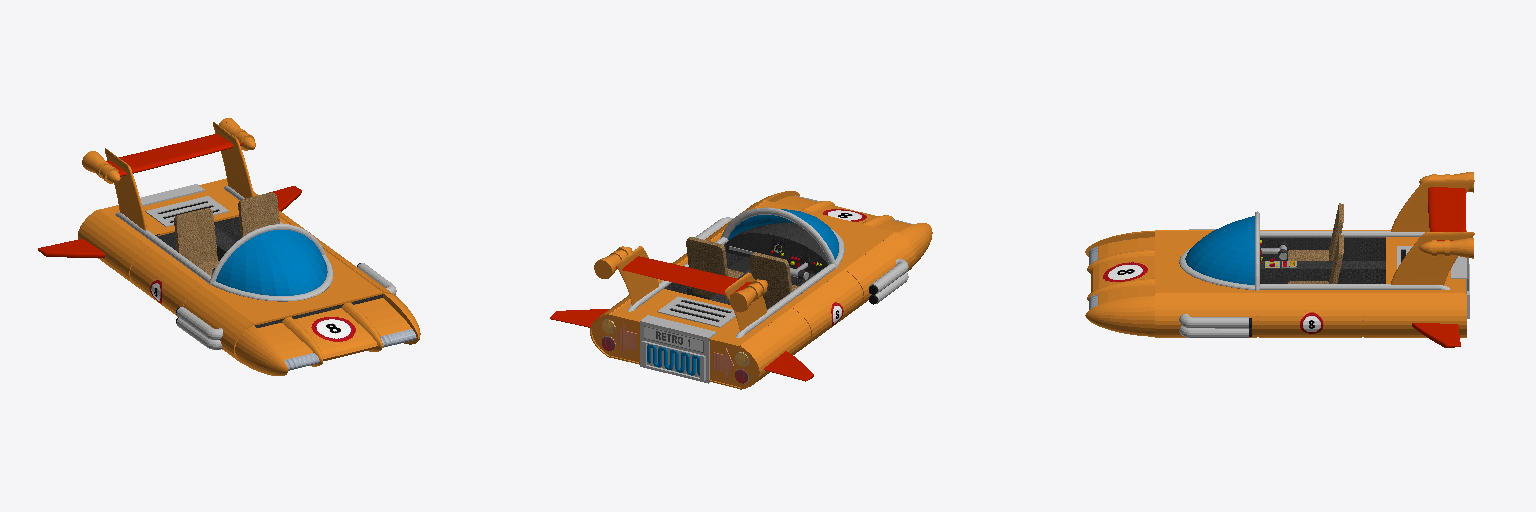
3 views of the same model, side by side, from view 1: azimuth 30°, elevation 25°; view 2: azimuth 150°, elevation 25°; view 3: azimuth 270°, elevation 25° (orthographic).
Parts seen in each view (by area): view 1: RetroRacer; view 2: RetroRacer; view 3: RetroRacer.
Part boxes in pixels (x1,y1,x2,y2): RetroRacer: (38,118,420,375); RetroRacer: (550,191,932,389); RetroRacer: (1085,172,1474,347).
Bounding box in the file's own units: 1.33 × 0.4998 × 1.74.
Materials: 13 (7 with a texture image).